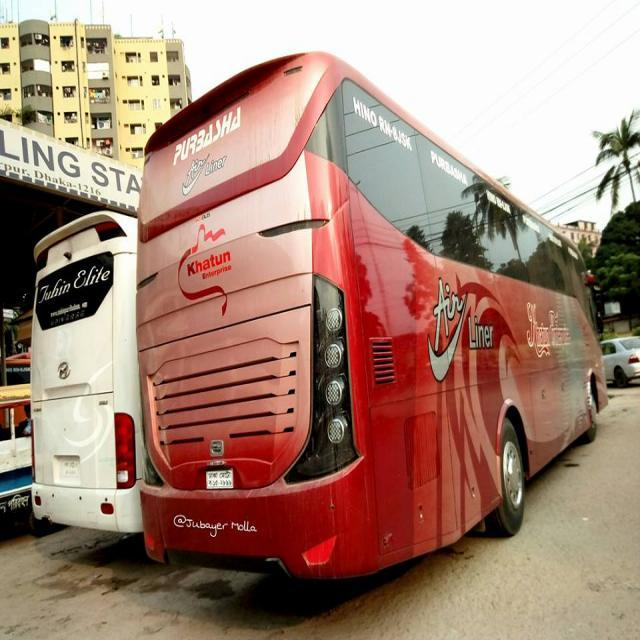bus: (133, 49, 610, 586)
